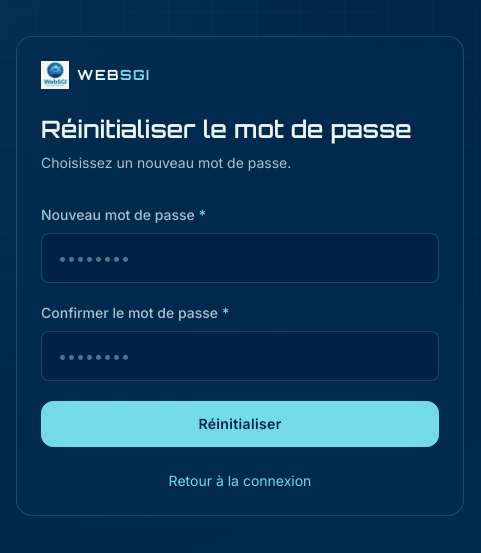
Test: ResetPassword › should refuse to submit when the passwords do not match
Step 1. Type "nouveau-mdp-123" into the password field labelled "Nouveau mot de passe*" → {"x": 240, "y": 258}, box [41,233,439,283]
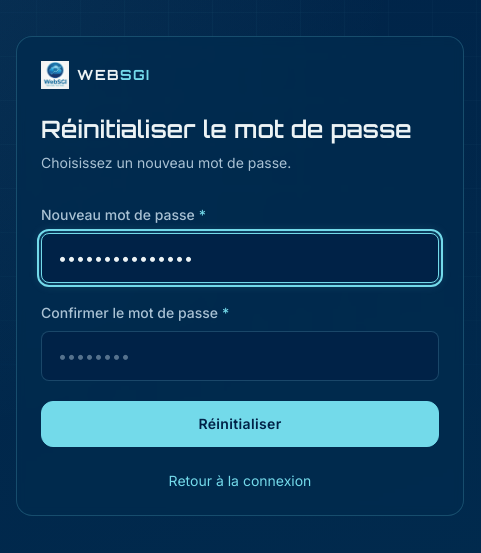
Step 2. Type "different-123" into the password field labelled "Confirmer le mot de passe*" → {"x": 240, "y": 356}, box [41,331,439,381]
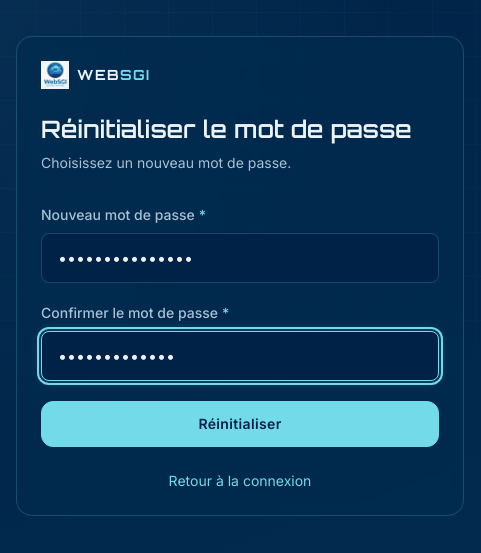
Step 3. Click the button "Réinitialiser" → {"x": 240, "y": 424}, box [41,401,439,447]
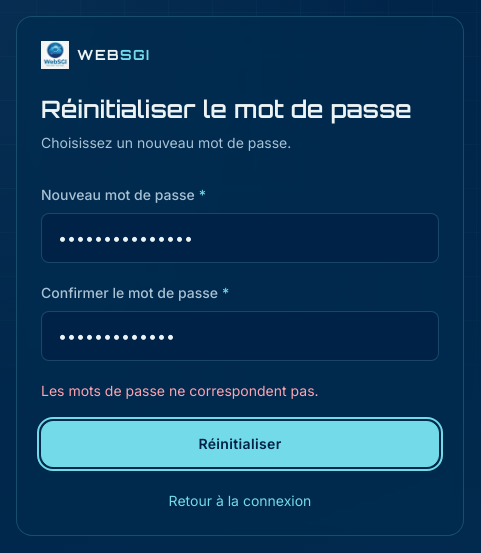
Now the text "Les mots de passe ne correspondent pas." is shown, box [41,382,319,399]
